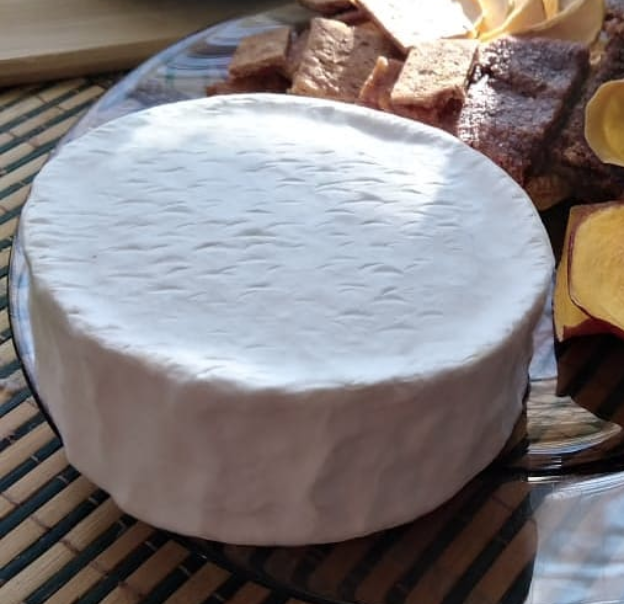camembert: (17, 91, 557, 548)
